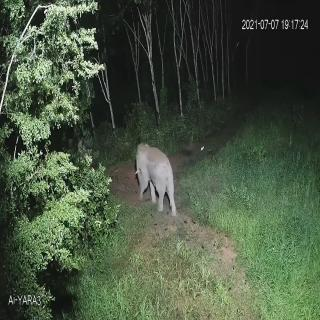Elephant: (133, 135, 180, 217)
